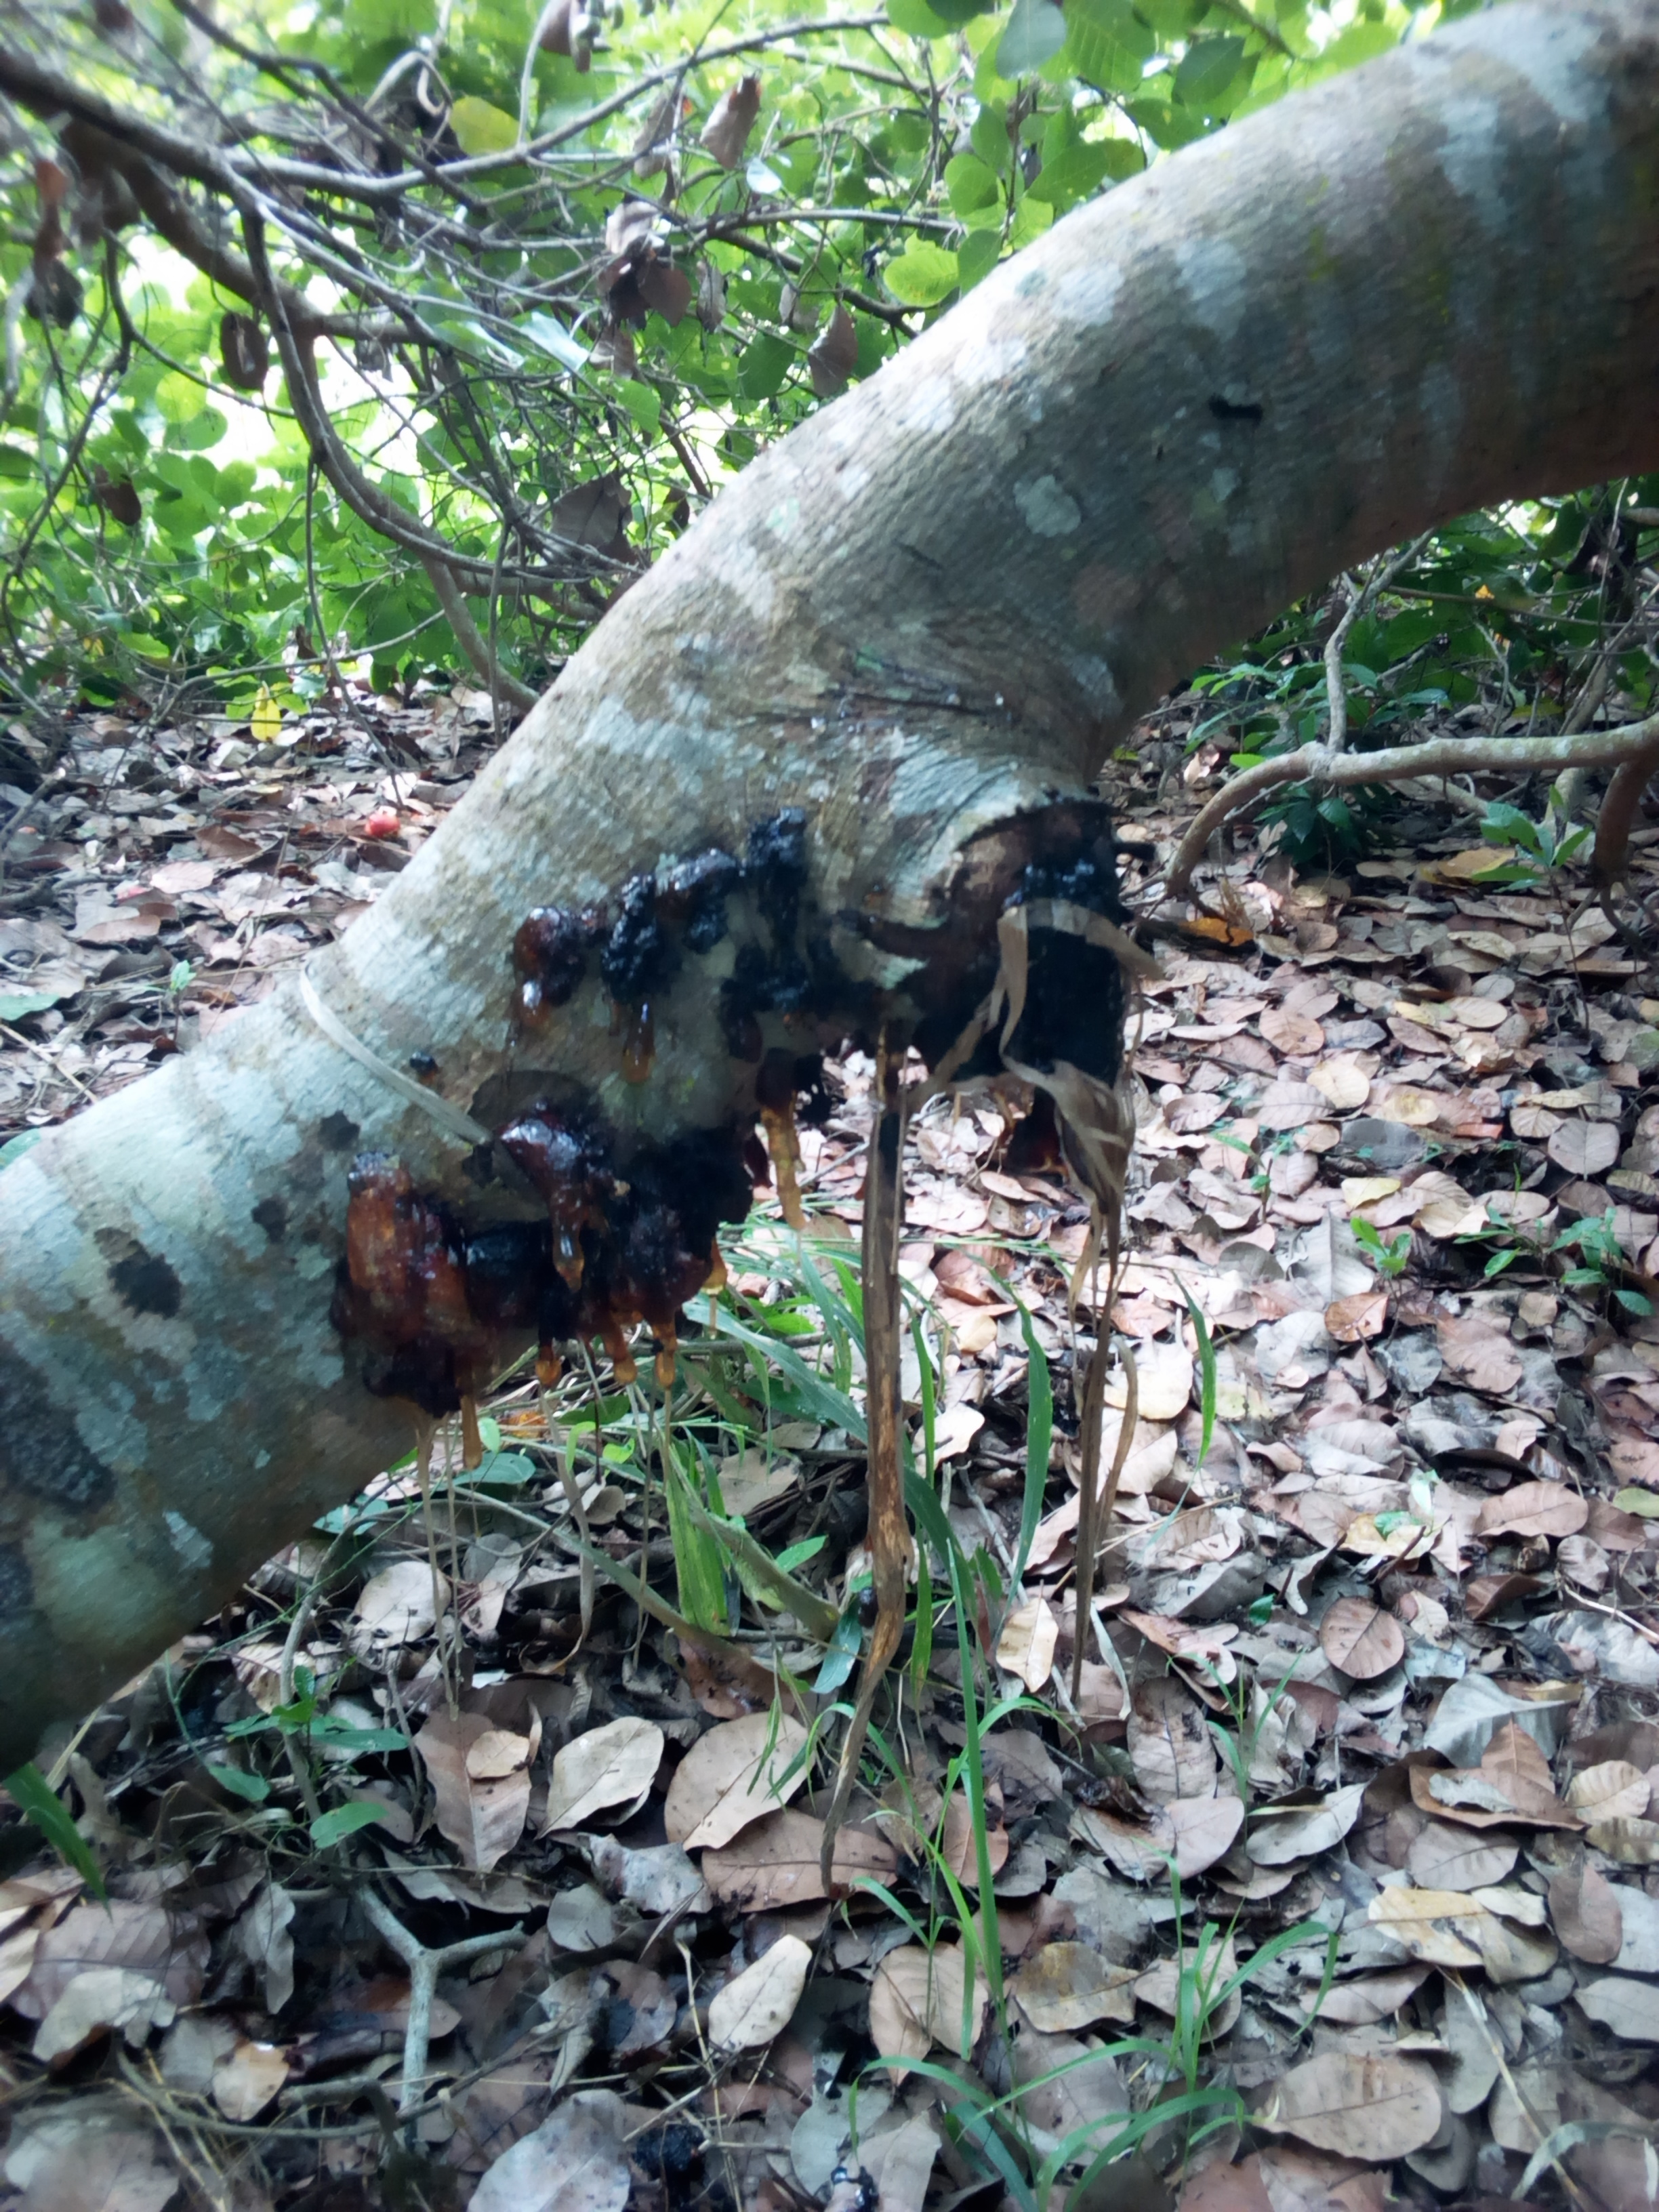Mecocorynus longiceps: (284, 787, 1185, 1400)
